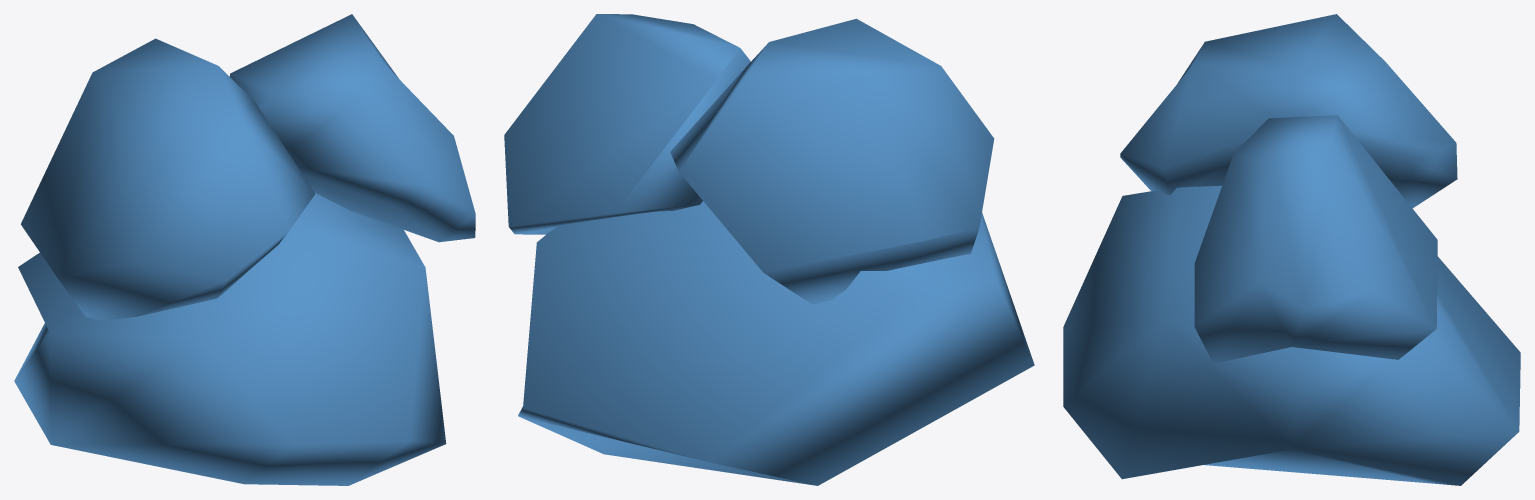
The model's file is RockCluster.fbx.
3 views of the same model, side by side, from view 1: azimuth 30°, elevation 25°; view 2: azimuth 150°, elevation 25°; view 3: azimuth 270°, elevation 25° (orthographic). The views are drawn at different scales.
Parts seen in each view (by area): view 1: RockCluster1; view 2: RockCluster1; view 3: RockCluster1.
Boxes of the visible parts, x1,y1,x2,y2 form: RockCluster1: (14, 14, 475, 485); RockCluster1: (504, 14, 1034, 485); RockCluster1: (1063, 14, 1520, 485).
Size of the model in its own units: 49.27 by 40.51 by 45.
